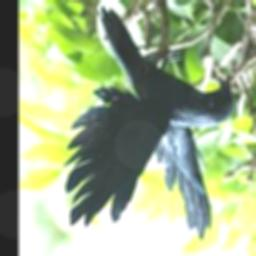Crow: (65, 6, 234, 242)
